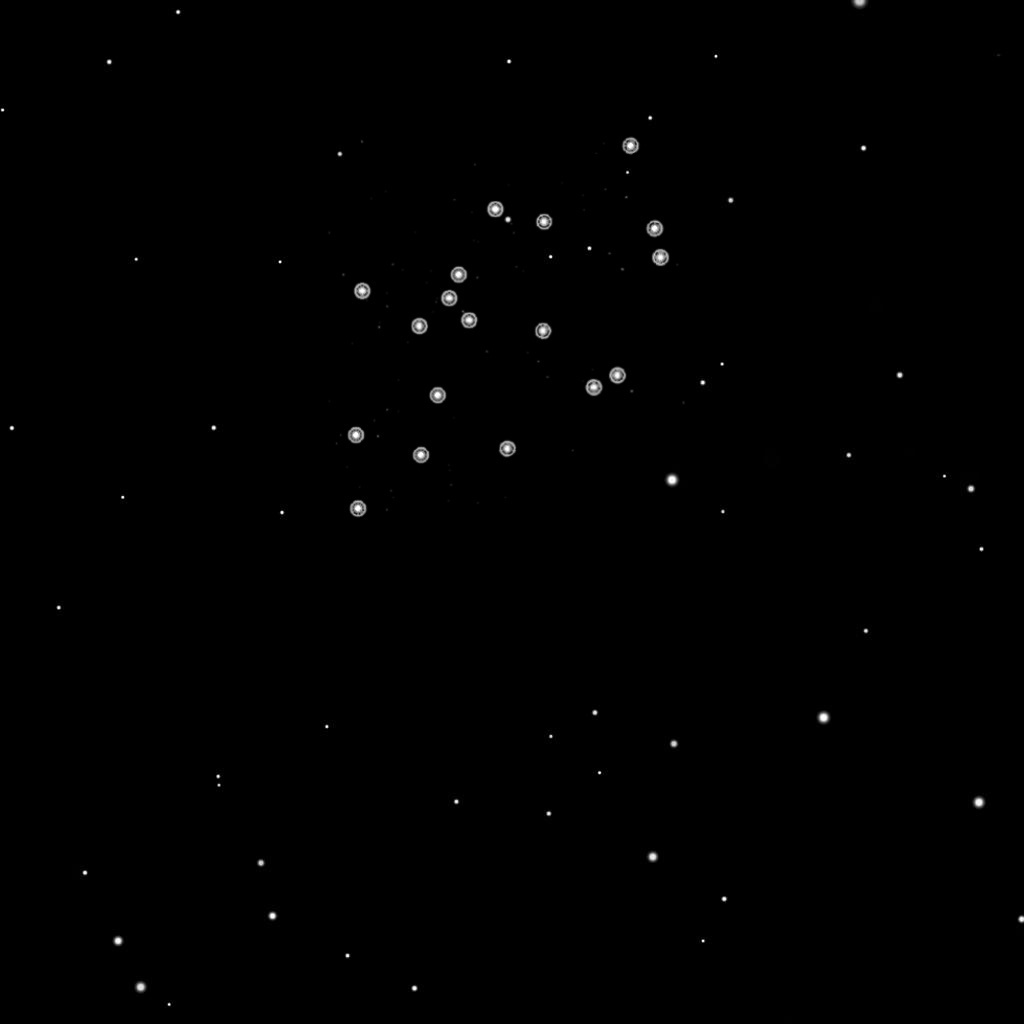canis_major: (408, 198, 558, 341)
